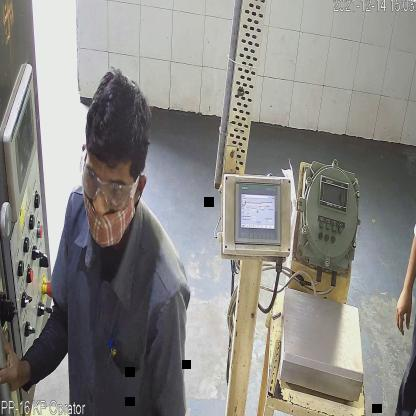goggles: (80, 170, 140, 216)
